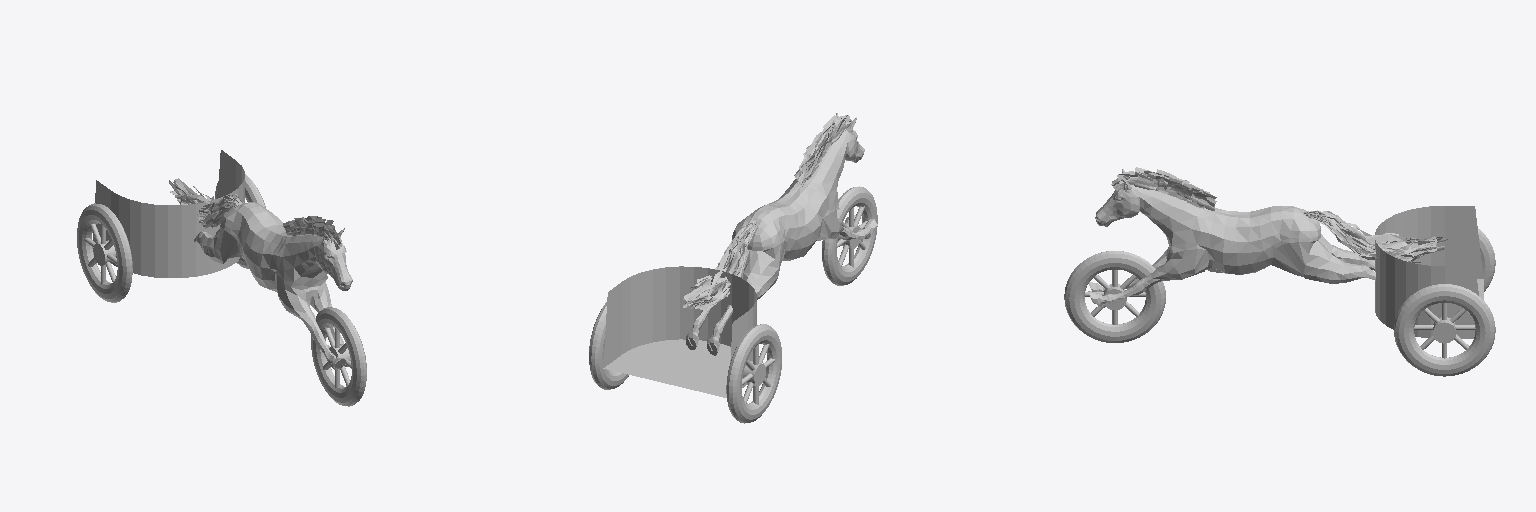
The model's file is alpha_cart.obj.
3 views of the same model, side by side, from view 1: azimuth 30°, elevation 25°; view 2: azimuth 150°, elevation 25°; view 3: azimuth 270°, elevation 25° (orthographic).
Visible parts, largest first — view 1: Horse, Chassis, Rim, Rim.002; view 2: Chassis, Horse, Rim, Rim.002, Rim.001; view 3: Horse, Chassis, Rim.001, Rim.002, Rim.
Boxes of the visible parts, x1,y1,x2,y2 form: Horse: [169, 178, 365, 369]; Chassis: [93, 150, 244, 277]; Rim: [77, 203, 132, 302]; Rim.002: [311, 307, 366, 406]; Chassis: [603, 266, 756, 397]; Horse: [683, 113, 877, 355]; Rim: [726, 324, 781, 423]; Rim.002: [822, 186, 877, 285]; Rim.001: [589, 302, 628, 389]; Horse: [1088, 167, 1447, 306]; Chassis: [1375, 206, 1483, 338]; Rim.001: [1394, 284, 1495, 376]; Rim.002: [1064, 251, 1165, 342]; Rim: [1478, 229, 1495, 291].
Size of the model in its own units: 0.6345 by 0.7055 by 1.59.